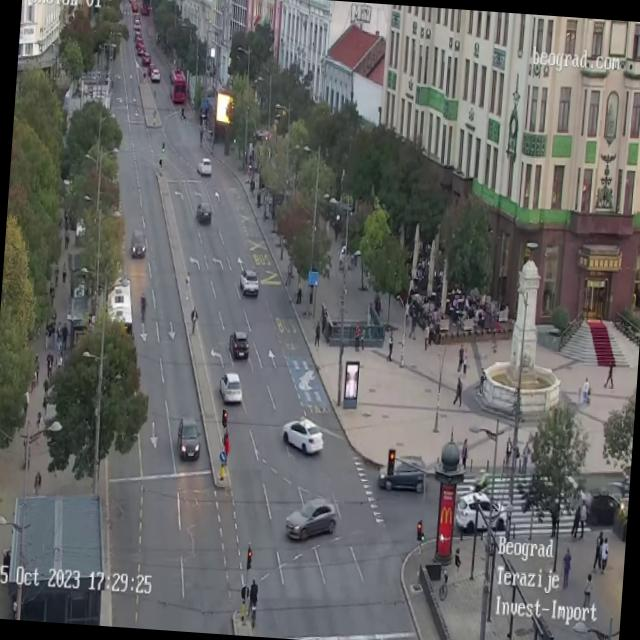bus: (101, 272, 136, 338), (167, 67, 187, 104), (137, 0, 151, 14)
car: (283, 494, 338, 542), (454, 488, 510, 532), (379, 455, 428, 498), (281, 415, 325, 456), (176, 416, 202, 461), (218, 371, 244, 405), (228, 330, 250, 360), (238, 268, 259, 296), (130, 228, 148, 258), (194, 200, 212, 223), (196, 156, 212, 176), (149, 66, 162, 80), (136, 38, 144, 54), (141, 52, 149, 64)
